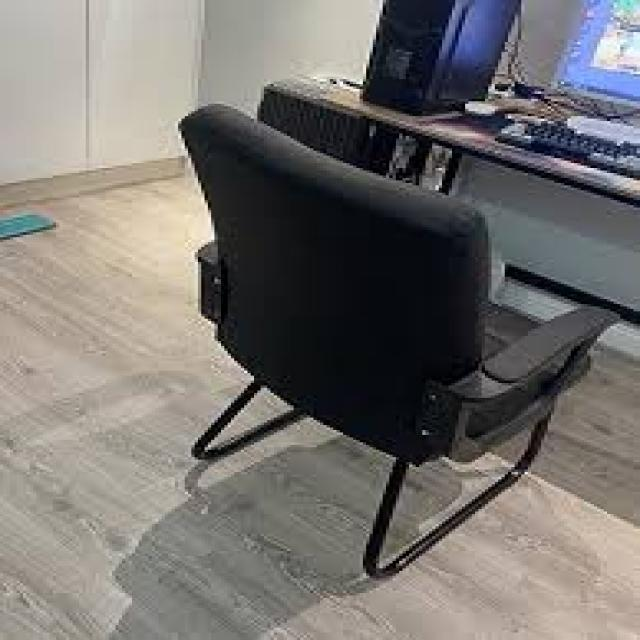chair: (69, 77, 640, 606)
